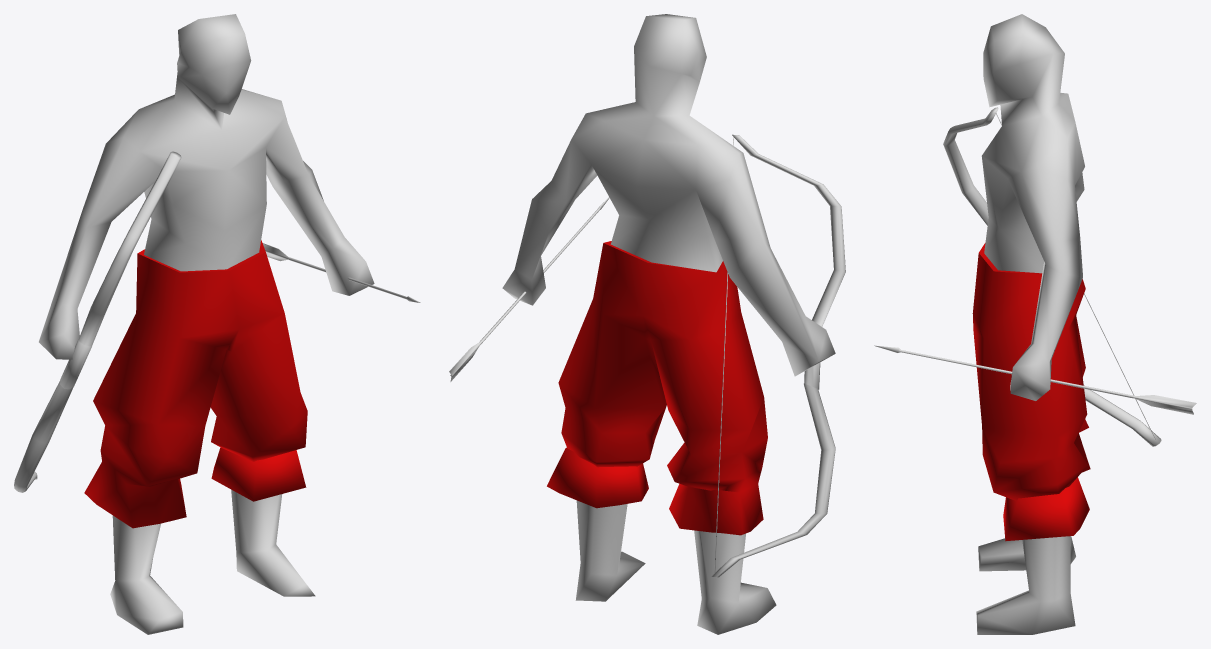
Rendered from ArcherEnnemi.fbx.
3 views of the same model, side by side, from view 1: azimuth 30°, elevation 25°; view 2: azimuth 150°, elevation 25°; view 3: azimuth 270°, elevation 25° (orthographic).
Parts seen in each view (by area): view 1: Connect_2.001; view 2: Connect_2.001; view 3: Connect_2.001.
Part boxes in pixels (x1,y1,x2,y2): Connect_2.001: (14, 14, 420, 634); Connect_2.001: (449, 14, 845, 634); Connect_2.001: (874, 14, 1196, 634).
Bounding box in the file's own units: 112 × 188 × 95.67.
